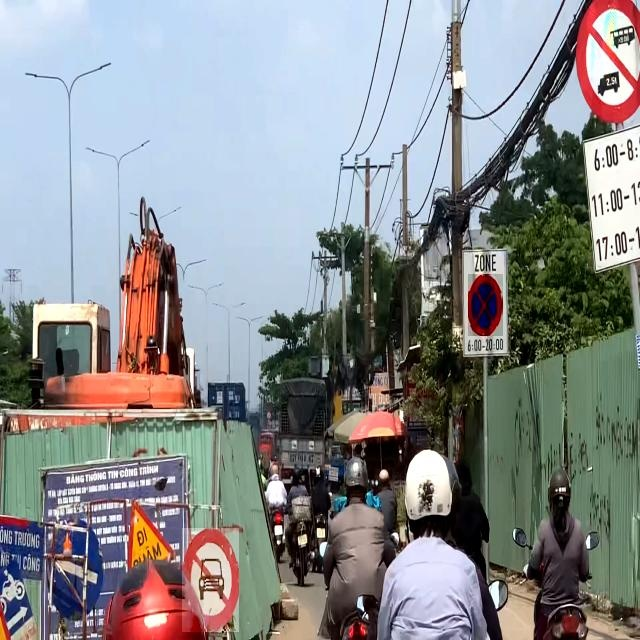bien_cam: (182, 528, 239, 632), (468, 274, 503, 336)
